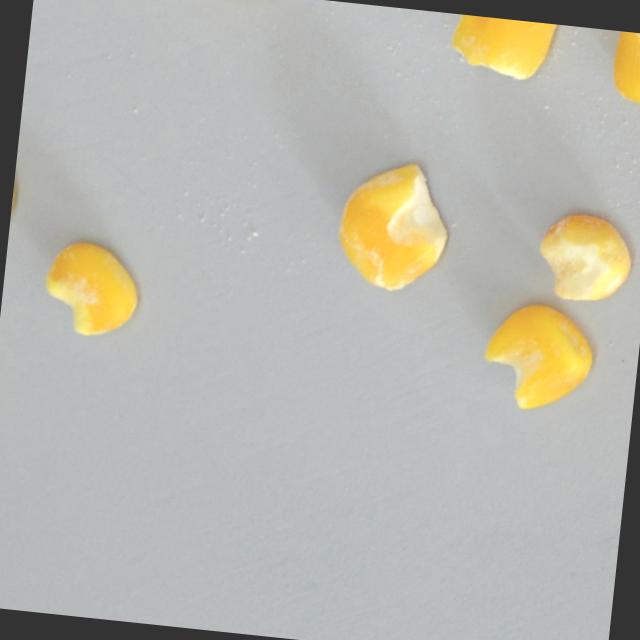no_canjicado: (476, 296, 598, 415), (447, 12, 559, 84), (606, 29, 640, 105)
no_desgerminado: (533, 207, 635, 307)
pelicula: (329, 154, 457, 297), (38, 234, 143, 340)
